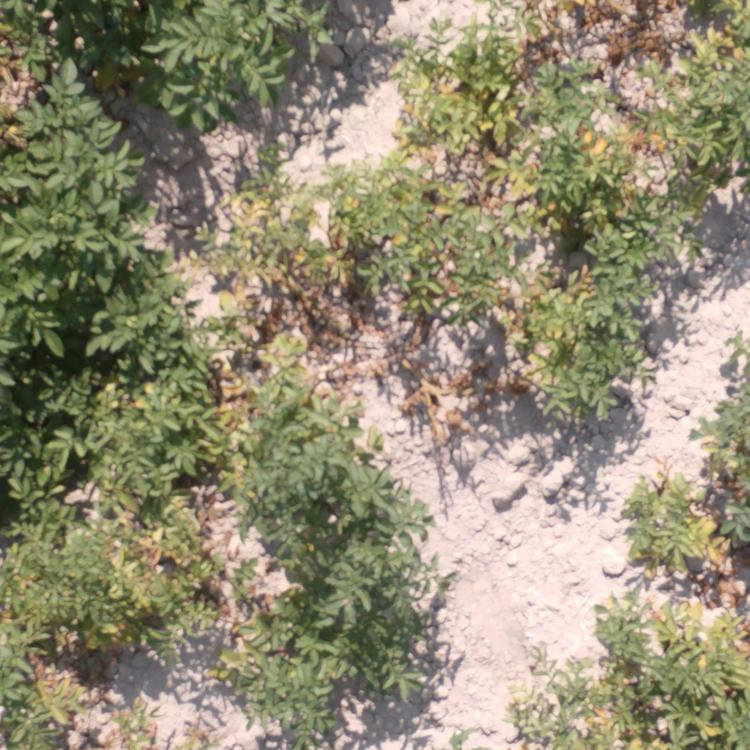healthy: (215, 549, 351, 744), (5, 375, 214, 491), (4, 104, 147, 263), (133, 1, 363, 98), (247, 413, 411, 545), (1, 271, 199, 377), (1, 1, 114, 103), (357, 545, 435, 688)
stressed: (1, 493, 210, 649), (591, 589, 745, 750), (216, 165, 323, 394), (335, 163, 510, 298), (530, 249, 630, 437), (653, 6, 745, 195), (406, 25, 521, 158), (1, 648, 152, 744), (621, 473, 750, 581), (543, 110, 648, 241), (531, 1, 639, 94), (516, 655, 589, 746), (704, 323, 747, 465), (366, 312, 432, 390)
